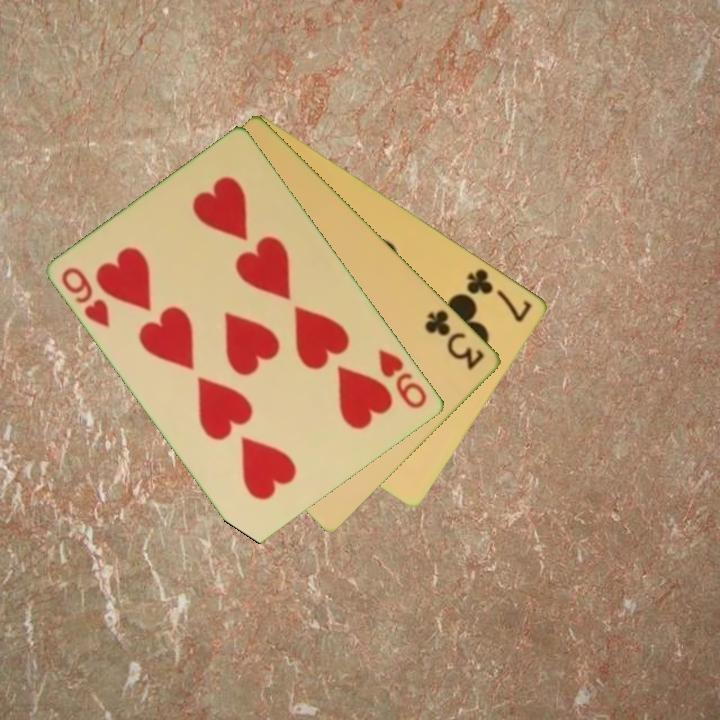3c: (421, 306, 488, 373)
7c: (463, 265, 536, 325)
9h: (58, 263, 114, 331), (375, 345, 431, 412)
